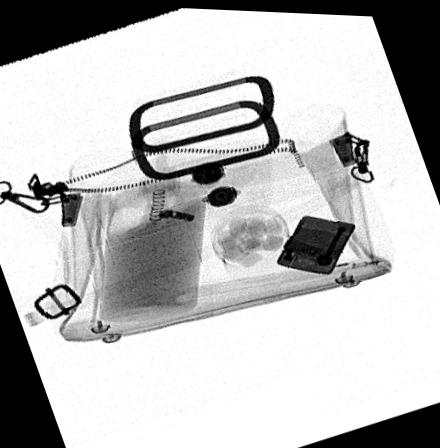Lighter: (275, 210, 357, 272)
